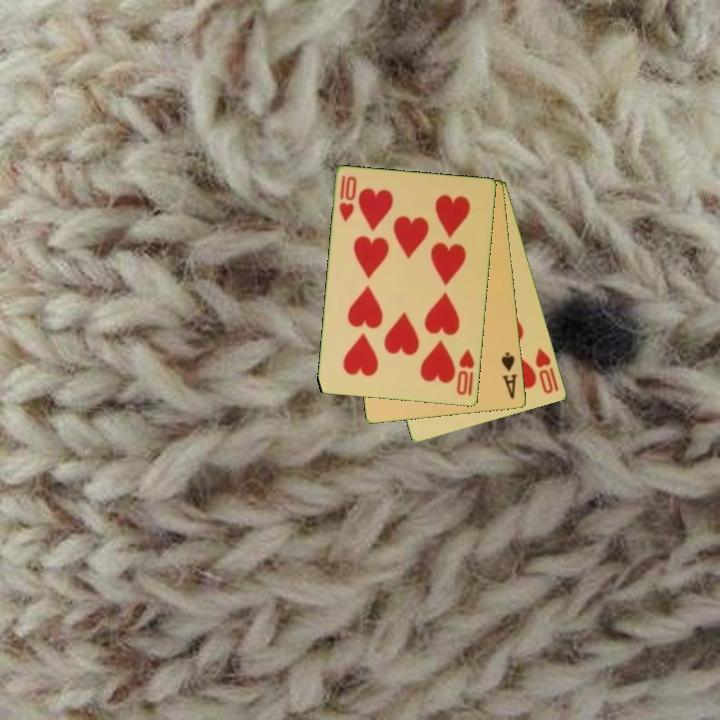10h: (532, 345, 562, 397), (453, 346, 478, 399), (336, 172, 360, 225)
As: (498, 349, 520, 402)
